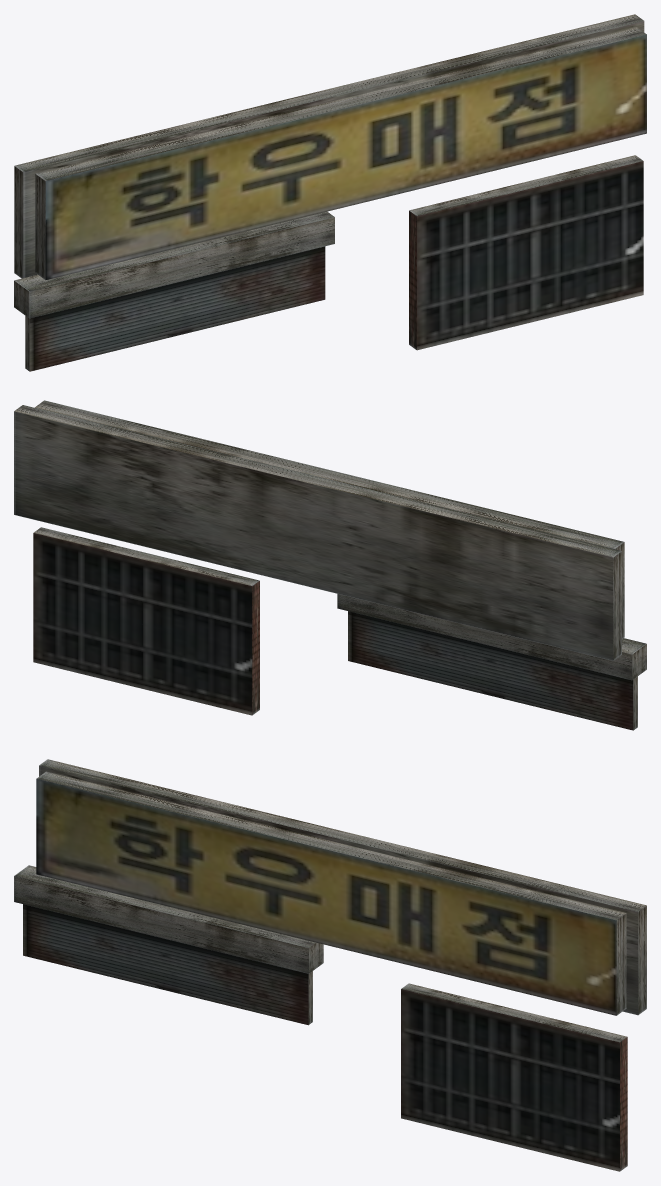
Rendered from sf_snack_facade.glb.
The picture shows the model from 3 angles, top to bottom: view 1: azimuth 30°, elevation 25°; view 2: azimuth 150°, elevation 25°; view 3: azimuth 330°, elevation 25°; orthographic projection. The views are drawn at different scales.
Visible parts, largest first — view 1: HaguMaejeomFacade_Root, HaguMaejeomFacade_AnimPart; view 2: HaguMaejeomFacade_Root, HaguMaejeomFacade_AnimPart; view 3: HaguMaejeomFacade_Root, HaguMaejeomFacade_AnimPart.
Part boxes in pixels (x1,y1,x2,y2): HaguMaejeomFacade_Root: (14, 14, 644, 371); HaguMaejeomFacade_AnimPart: (35, 27, 646, 279); HaguMaejeomFacade_Root: (14, 405, 646, 730); HaguMaejeomFacade_AnimPart: (35, 400, 624, 638); HaguMaejeomFacade_Root: (14, 759, 646, 1171); HaguMaejeomFacade_AnimPart: (36, 771, 626, 1015).
Size of the model in its own units: 6.4 by 2.57 by 0.44.
1 material, 1 textured.
